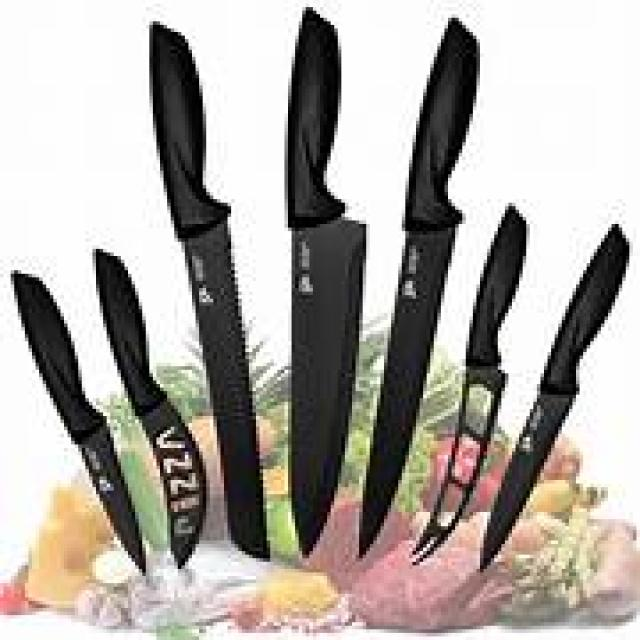Knife: (359, 18, 476, 551), (153, 25, 267, 555), (288, 7, 363, 551)
